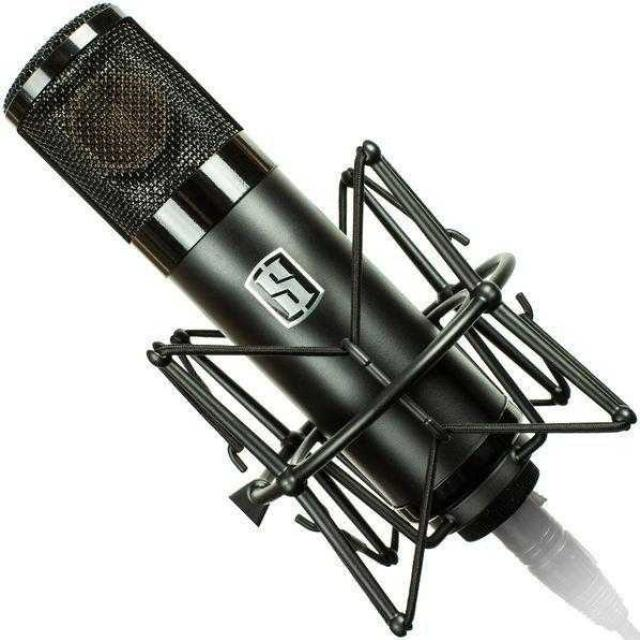microphone: (4, 2, 577, 552)
